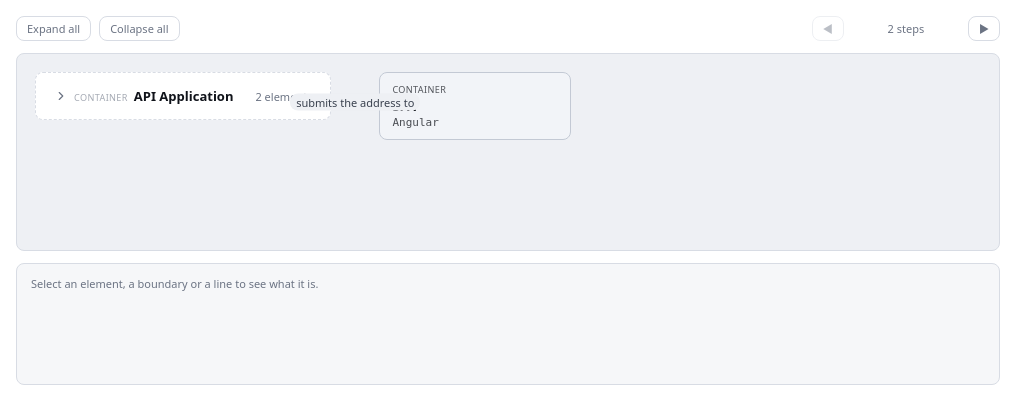
Scenario: C4Chart — a dynamic run › still opens what hides a step, and opens it again after the viewer shuts it
This screenshot has width=1017, height=402.
Click the button named "Next step": [984, 28] box [968, 16, 1000, 41]
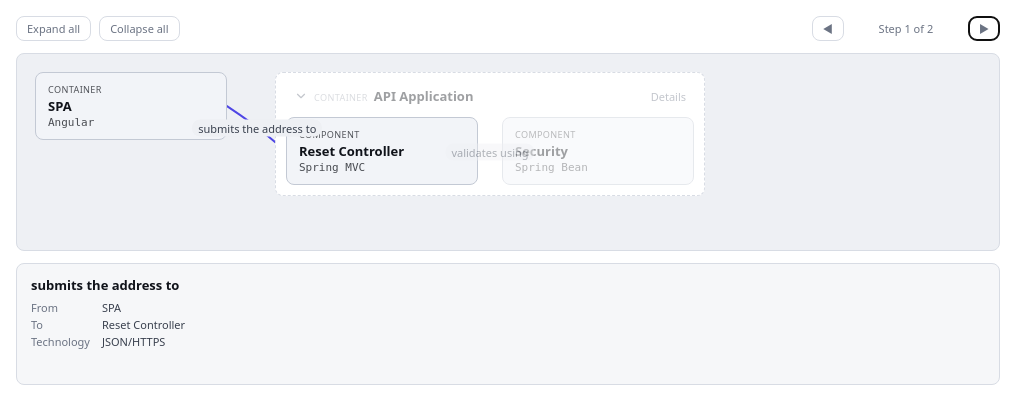
Expected: the 1st text "Reset Controller" is shown, [299, 143, 404, 159]
Note: Shut it by hand, then step on: the next step's reveal must still fire.
Click the button with aria-label "Collapse API Application": [384, 96] box [287, 84, 480, 108]
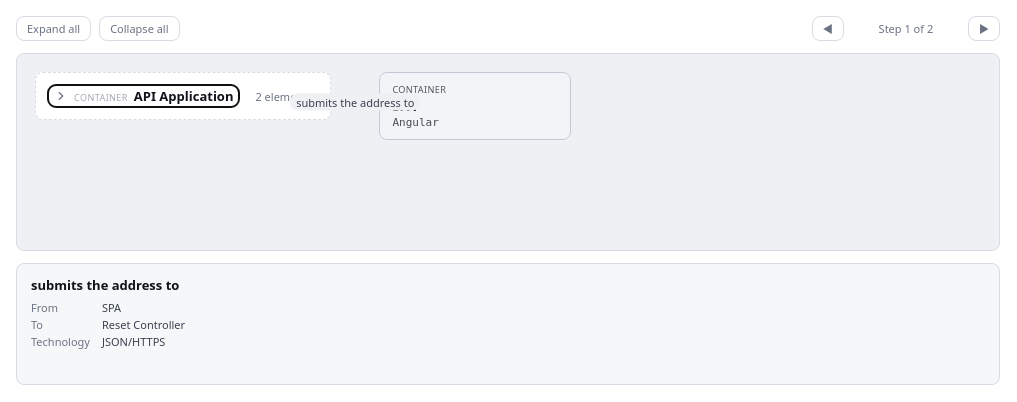
Click the button named "Next step": [984, 28] box [968, 16, 1000, 41]
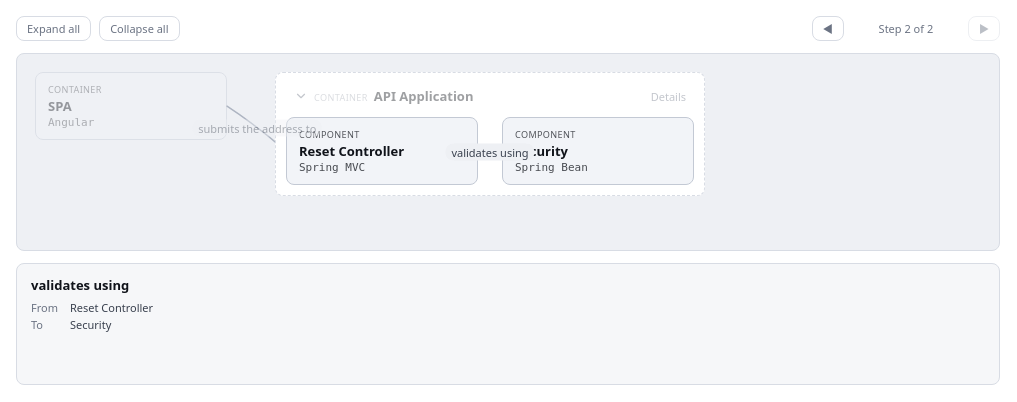
Expected: the 1st text "Security" is shown, [515, 143, 568, 159]
